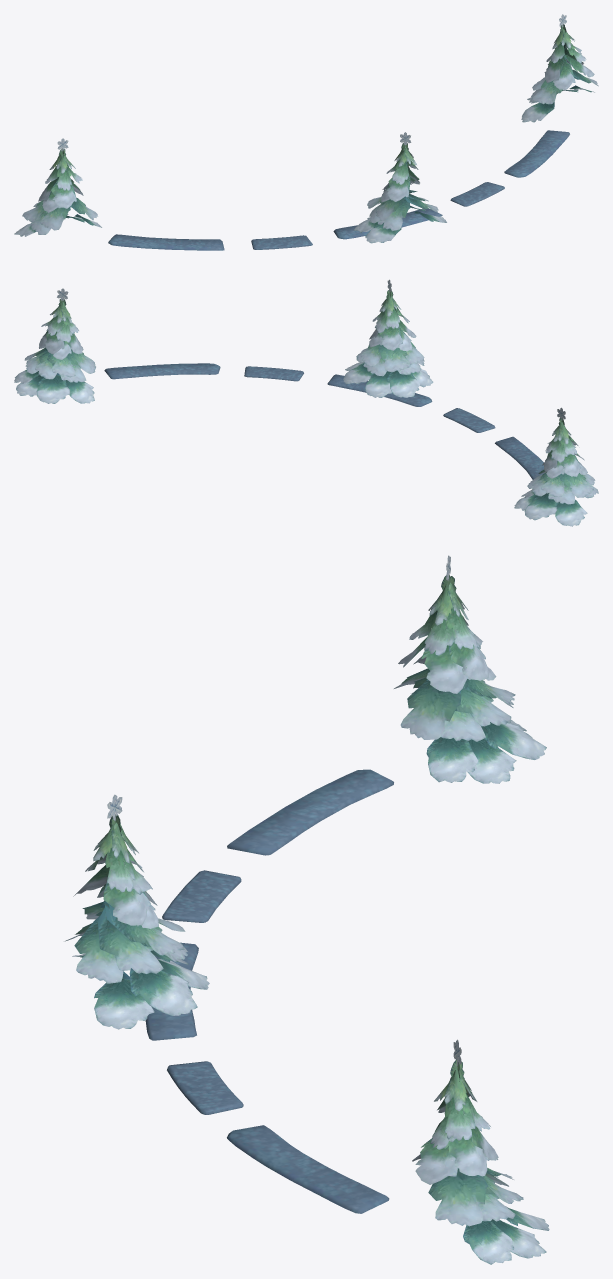
File: pref_sm_beach_bk_winter_pointmol_tree_T01_lv0.fbx
The picture shows the model from 3 angles, top to bottom: view 1: azimuth 30°, elevation 25°; view 2: azimuth 150°, elevation 25°; view 3: azimuth 270°, elevation 25°; orthographic projection. The views are drawn at different scales.
Parts seen in each view (by area): view 1: pref_sm_beach_bk_winter_pointmol_tree_T01_lv0; view 2: pref_sm_beach_bk_winter_pointmol_tree_T01_lv0; view 3: pref_sm_beach_bk_winter_pointmol_tree_T01_lv0.
Part boxes in pixels (x1,y1,x2,y2): pref_sm_beach_bk_winter_pointmol_tree_T01_lv0: (14,14,598,250); pref_sm_beach_bk_winter_pointmol_tree_T01_lv0: (14,279,598,526); pref_sm_beach_bk_winter_pointmol_tree_T01_lv0: (64,555,549,1264).
Size of the model in its own units: 43.1 by 7.71 by 15.95.
